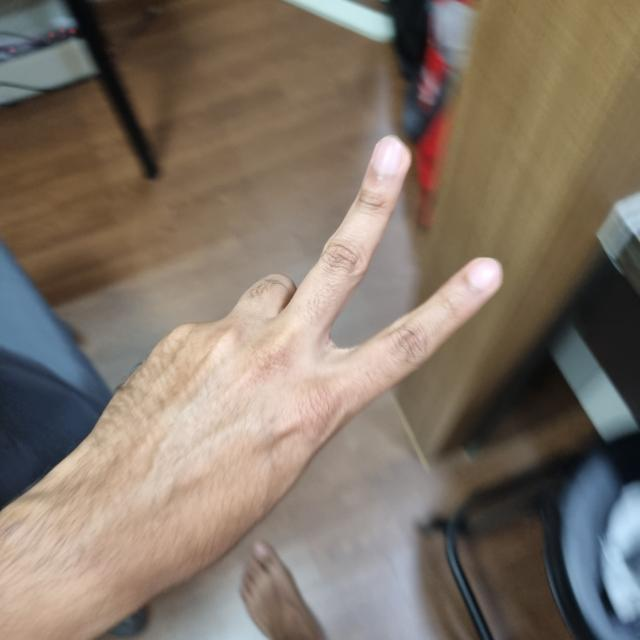Scissors: (75, 252, 501, 600)
